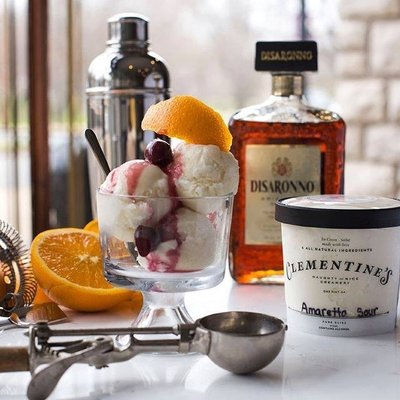pizza: (273, 192, 400, 340)
sushi: (176, 310, 286, 375)
taco: (30, 226, 142, 313)
